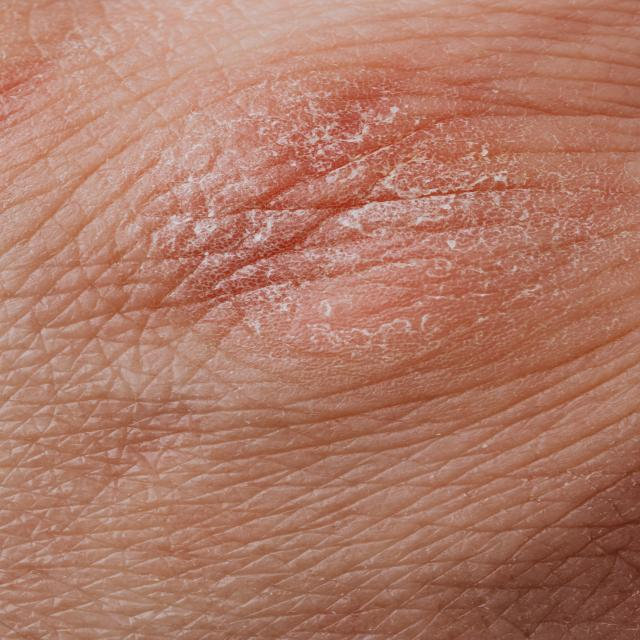Dry-Skin: (162, 74, 632, 368)
